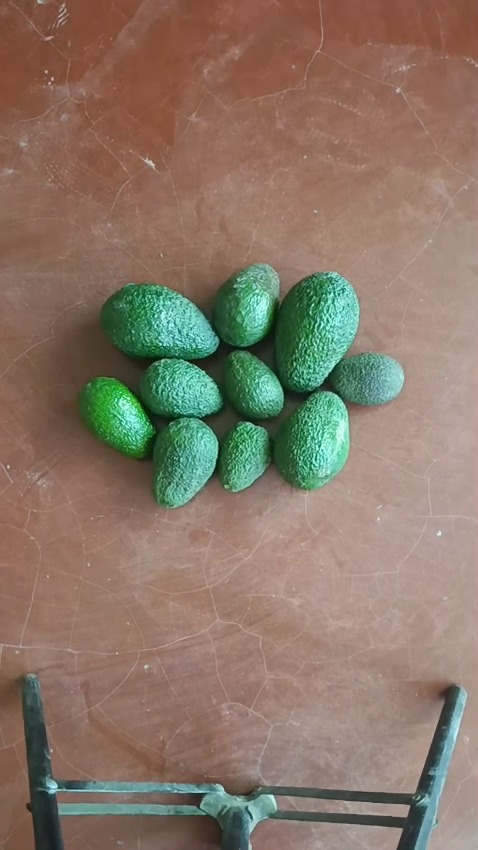Primera: (272, 270, 359, 392), (100, 282, 219, 361), (272, 391, 350, 490)
Segunda: (78, 376, 156, 459), (151, 416, 219, 506), (212, 263, 282, 348), (138, 358, 224, 421)
Tercera: (220, 349, 286, 419), (328, 352, 405, 407), (217, 420, 272, 492)
